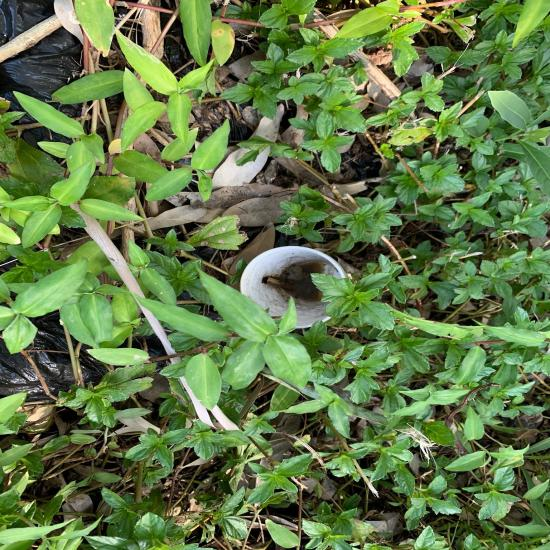Meal carton: (333, 459, 477, 550)
Plastic film: (352, 484, 412, 541)
